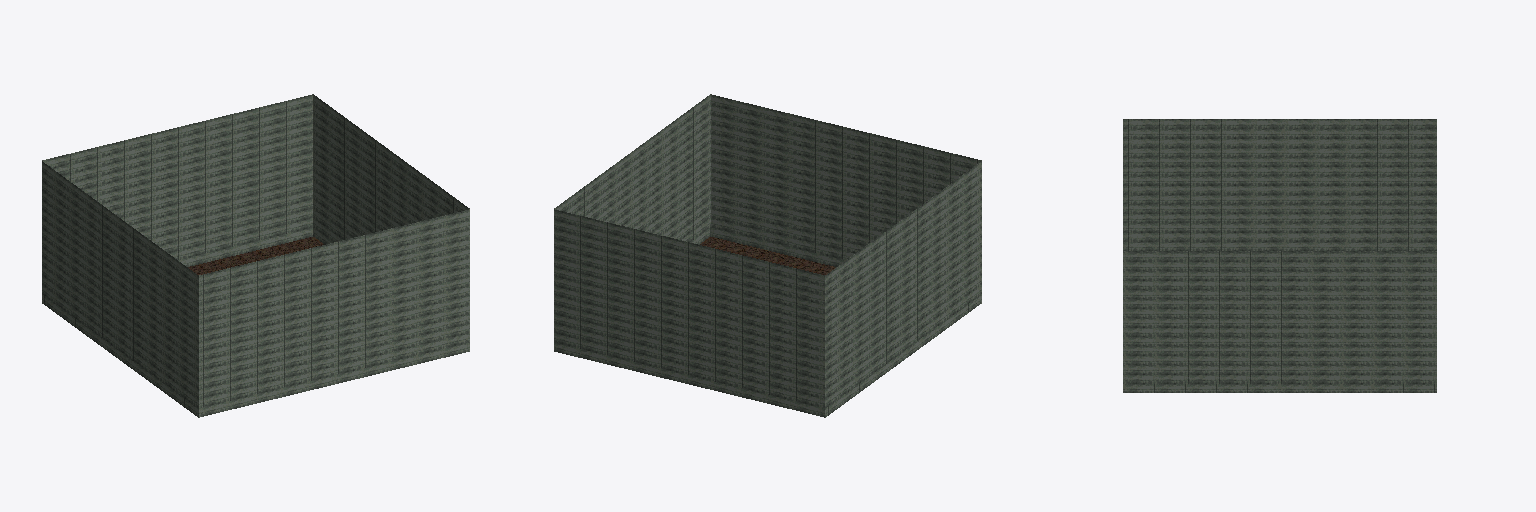
3 views of the same model, side by side, from view 1: azimuth 30°, elevation 25°; view 2: azimuth 150°, elevation 25°; view 3: azimuth 270°, elevation 25° (orthographic).
Parts seen in each view (by area): view 1: Rip_0004-SKP--Wall_0x0C, Rip_0004-SKP--Road_0x00; view 2: Rip_0004-SKP--Wall_0x0C, Rip_0004-SKP--Road_0x00; view 3: Rip_0004-SKP--Wall_0x0C.
Part boxes in pixels (left/top/right/bottom): Rip_0004-SKP--Wall_0x0C: left=42, top=94, right=469, bottom=417; Rip_0004-SKP--Road_0x00: left=188, top=237, right=323, bottom=274; Rip_0004-SKP--Wall_0x0C: left=554, top=94, right=981, bottom=417; Rip_0004-SKP--Road_0x00: left=700, top=237, right=835, bottom=274; Rip_0004-SKP--Wall_0x0C: left=1123, top=119, right=1436, bottom=392.
Bounding box in the file's own units: 11624 × 5810 × 11624.
Materials: 11 (10 with a texture image).